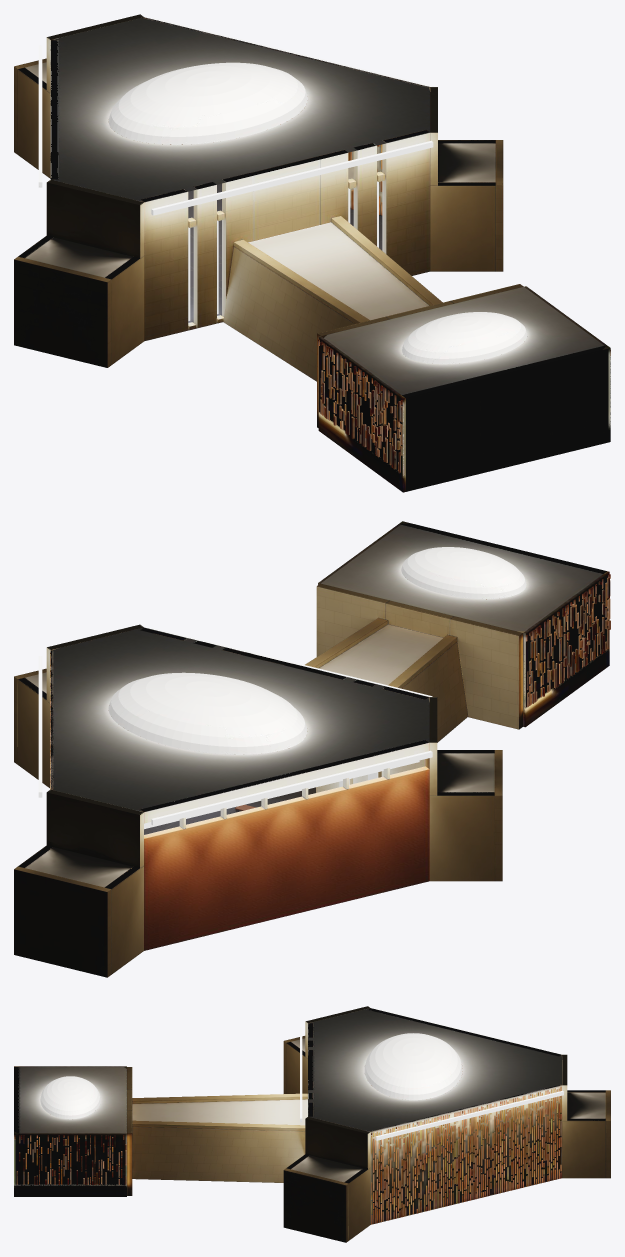
File: museum.glb
3 renders of one model, top to bottom at view 1: azimuth 30°, elevation 25°; view 2: azimuth 150°, elevation 25°; view 3: azimuth 270°, elevation 25°, orthographic. The views are drawn at different scales.
Parts seen in each view (by area): view 1: SOLID_ceiling, SOLID_hall, SOLID_lobby, SOLID_alcove1, SOLID_corridor, SOLID_alcove2, SOLID_lobbyscreen, SOLID_alcove0, WALK_floors, SOLID_screen; view 2: SOLID_ceiling, SOLID_hall, SOLID_alcove0, SOLID_lobby, SOLID_alcove1, SOLID_lobbyscreen, SOLID_corridor, SOLID_alcove2, WALK_floors; view 3: SOLID_ceiling, SOLID_screen, SOLID_corridor, SOLID_alcove2, SOLID_lobbyscreen, SOLID_alcove0, SOLID_hall, SOLID_alcove1, SOLID_lobby.
Boxes of the visible parts, <box> form: SOLID_ceiling: <box>50,17,605,397</box>; SOLID_hall: <box>38,18,433,341</box>; SOLID_lobby: <box>317,284,608,491</box>; SOLID_alcove1: <box>14,179,144,367</box>; SOLID_corridor: <box>223,216,442,381</box>; SOLID_alcove2: <box>430,87,503,271</box>; SOLID_lobbyscreen: <box>318,286,610,492</box>; SOLID_alcove0: <box>14,14,143,178</box>; WALK_floors: <box>136,183,382,330</box>; SOLID_screen: <box>143,17,430,215</box>; SOLID_ceiling: <box>50,523,606,811</box>; SOLID_hall: <box>38,627,432,950</box>; SOLID_alcove0: <box>14,789,143,977</box>; SOLID_lobby: <box>316,522,605,729</box>; SOLID_alcove1: <box>429,697,502,881</box>; SOLID_lobbyscreen: <box>318,521,610,727</box>; SOLID_corridor: <box>305,618,468,784</box>; SOLID_alcove2: <box>14,624,143,787</box>; WALK_floors: <box>135,787,315,834</box>; SOLID_ceiling: <box>14,1008,561,1133</box>; SOLID_screen: <box>370,1084,561,1224</box>; SOLID_corridor: <box>132,1093,307,1182</box>; SOLID_alcove2: <box>283,1116,370,1242</box>; SOLID_lobbyscreen: <box>14,1066,126,1196</box>; SOLID_alcove0: <box>562,1054,610,1178</box>; SOLID_hall: <box>300,1008,563,1140</box>; SOLID_alcove1: <box>283,1006,369,1093</box>; SOLID_lobby: <box>14,1067,132,1195</box>.
Size of the model in its own units: 25.08 by 8.38 by 39.59.
11 materials, 11 textured.
